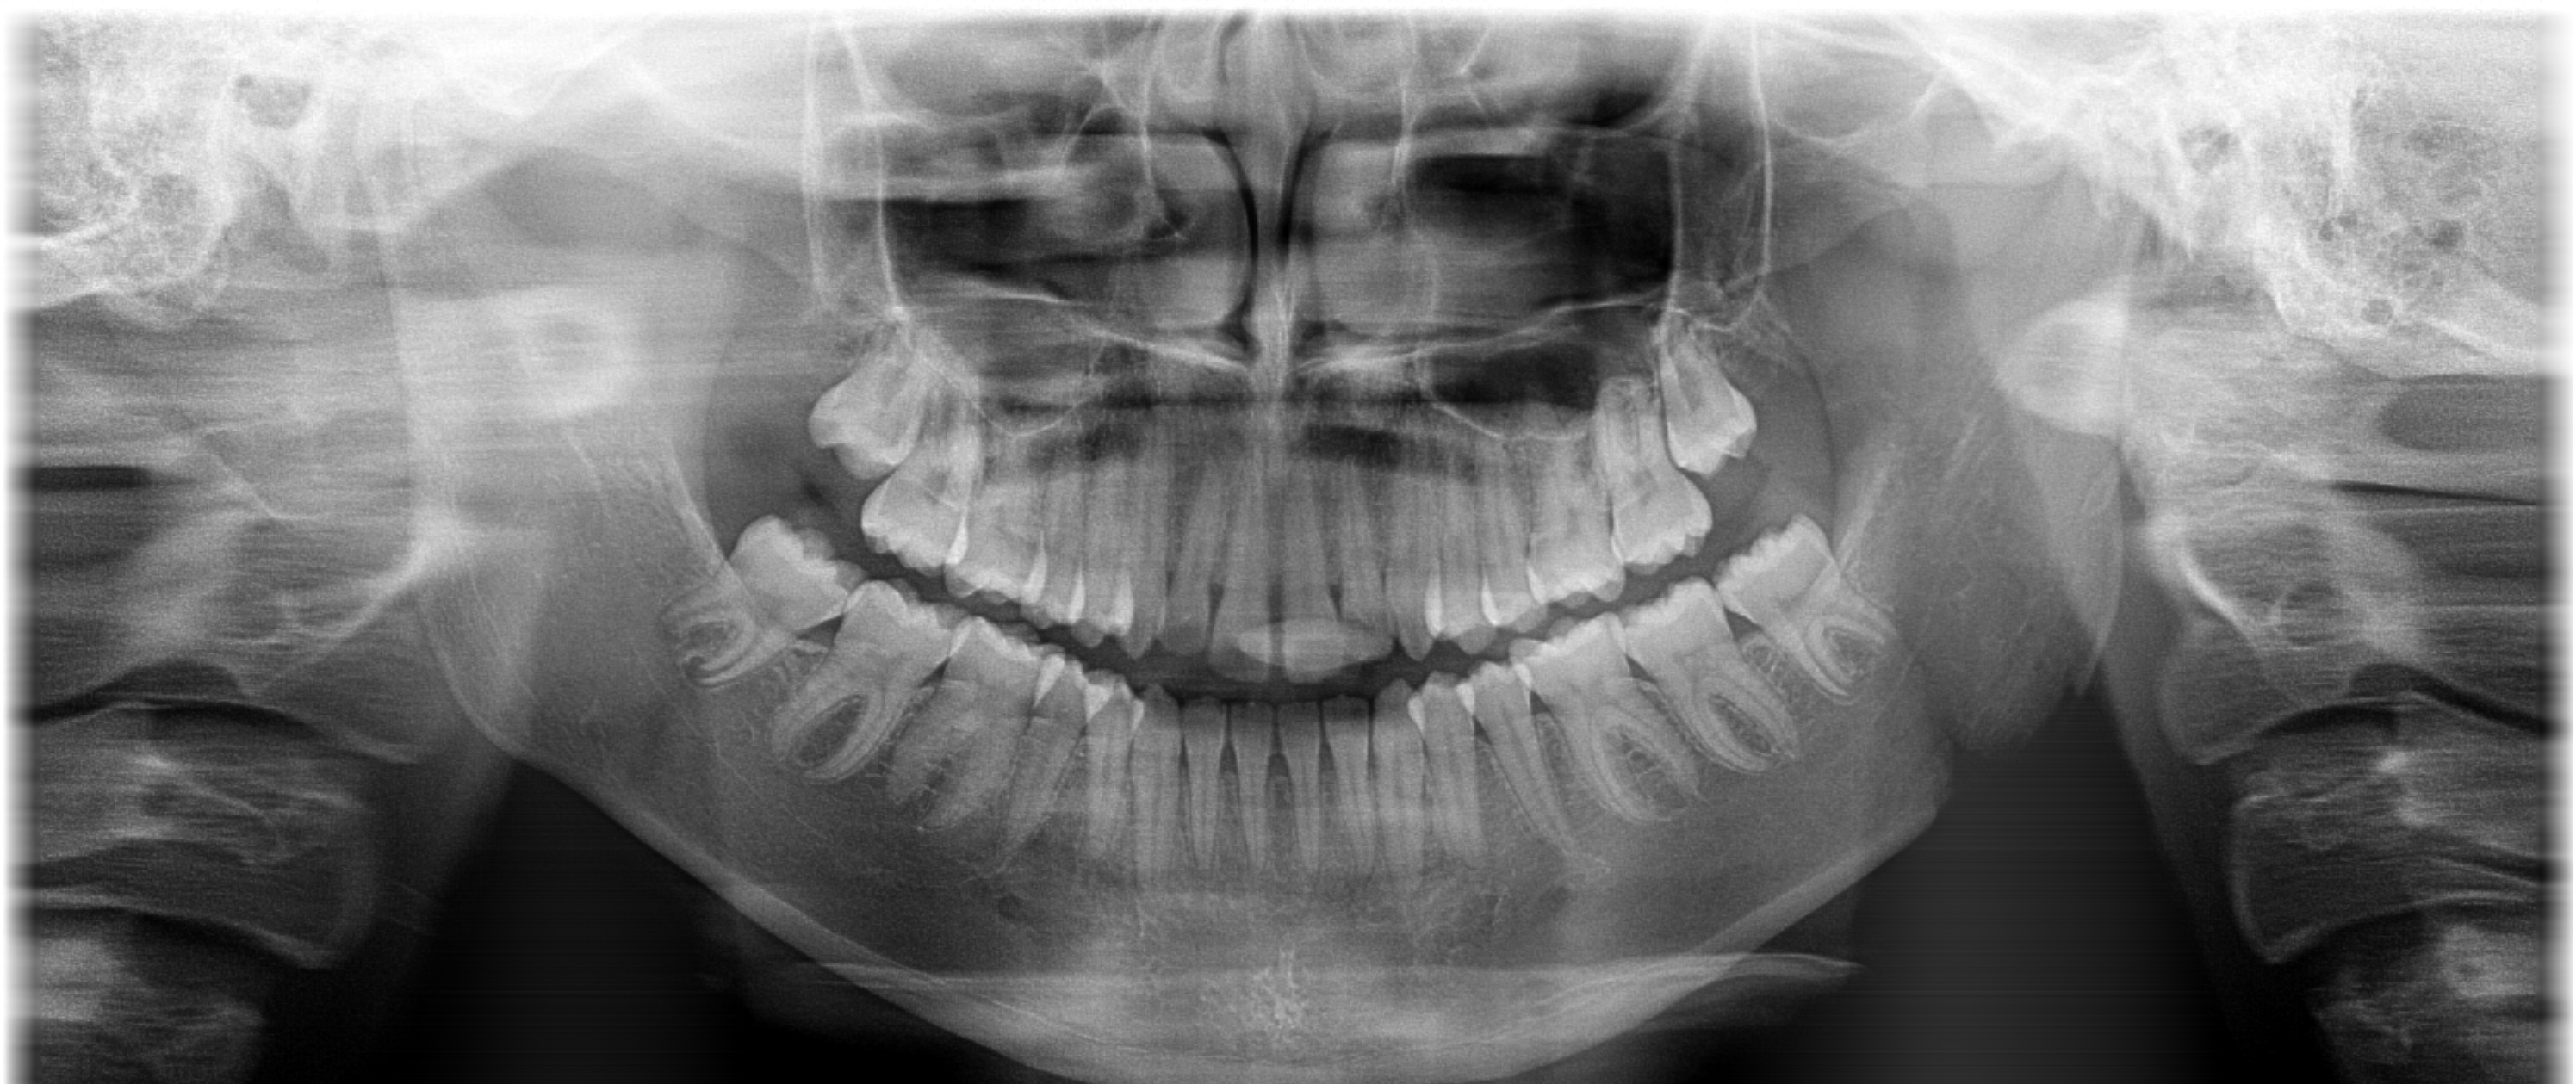cordal: (754, 299, 991, 503), (634, 494, 869, 698), (1590, 304, 1825, 508), (1694, 504, 1929, 706)
diastema: (1245, 455, 1311, 701), (1175, 442, 1240, 688)
